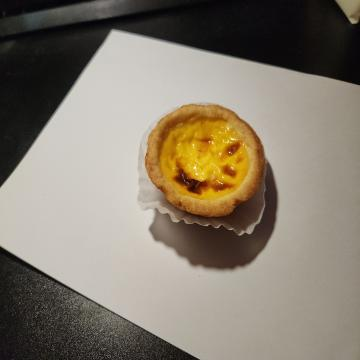EggTart: (146, 102, 265, 219)
